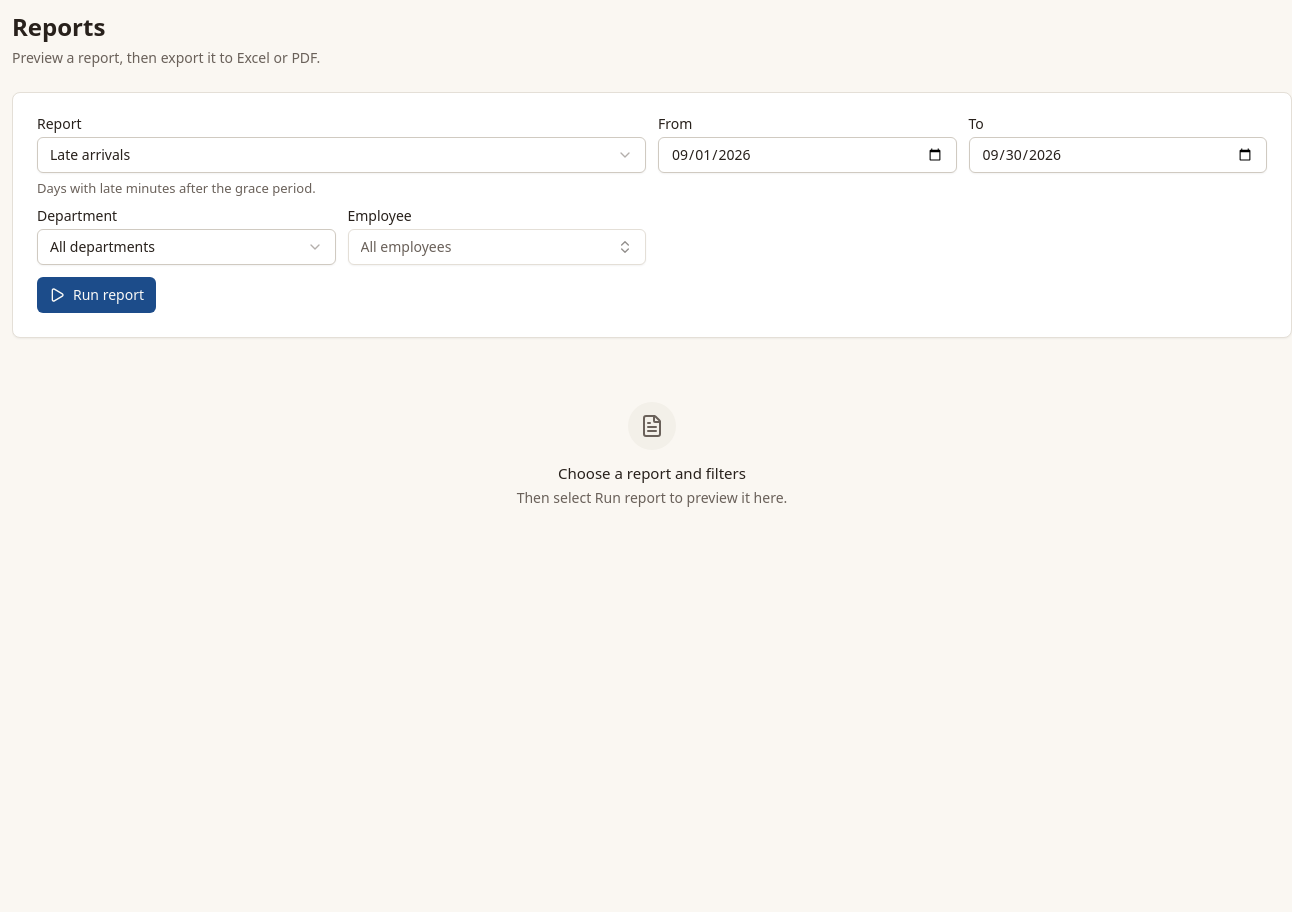
it: Reports (§13 screen 12, FR-30, FR-31) › previews a report with filters from the URL, formatted for display
Click the button "Run report": (96, 295) [37,277,156,313]
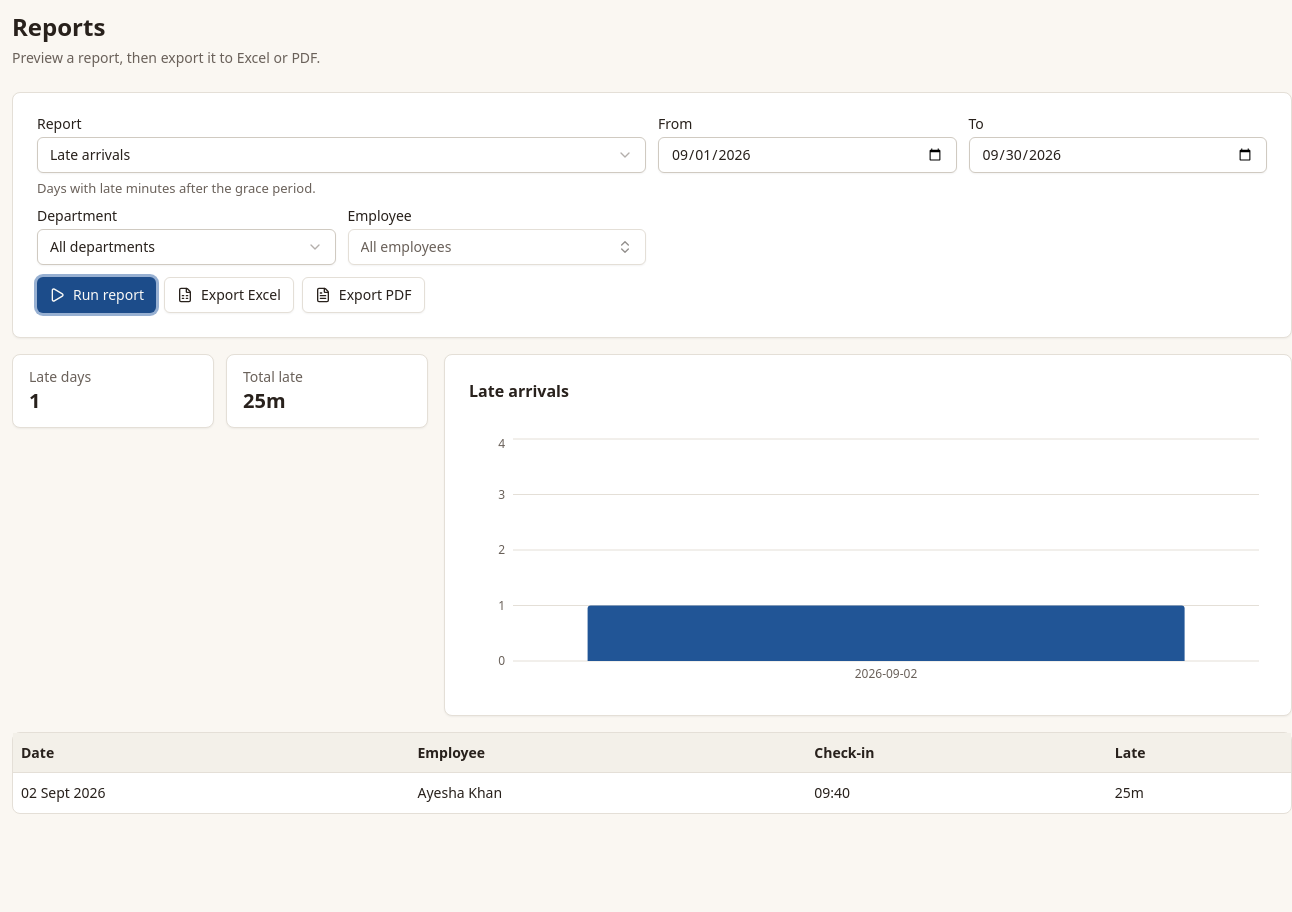
Check: the text "Ayesha Khan" is shown, box [410,773,806,814]
Check: the text "09:40" is shown, box [814,784,850,802]
Check: the text "25m" is shown 2 times, box [243,387,286,414]; [1115,784,1144,802]
